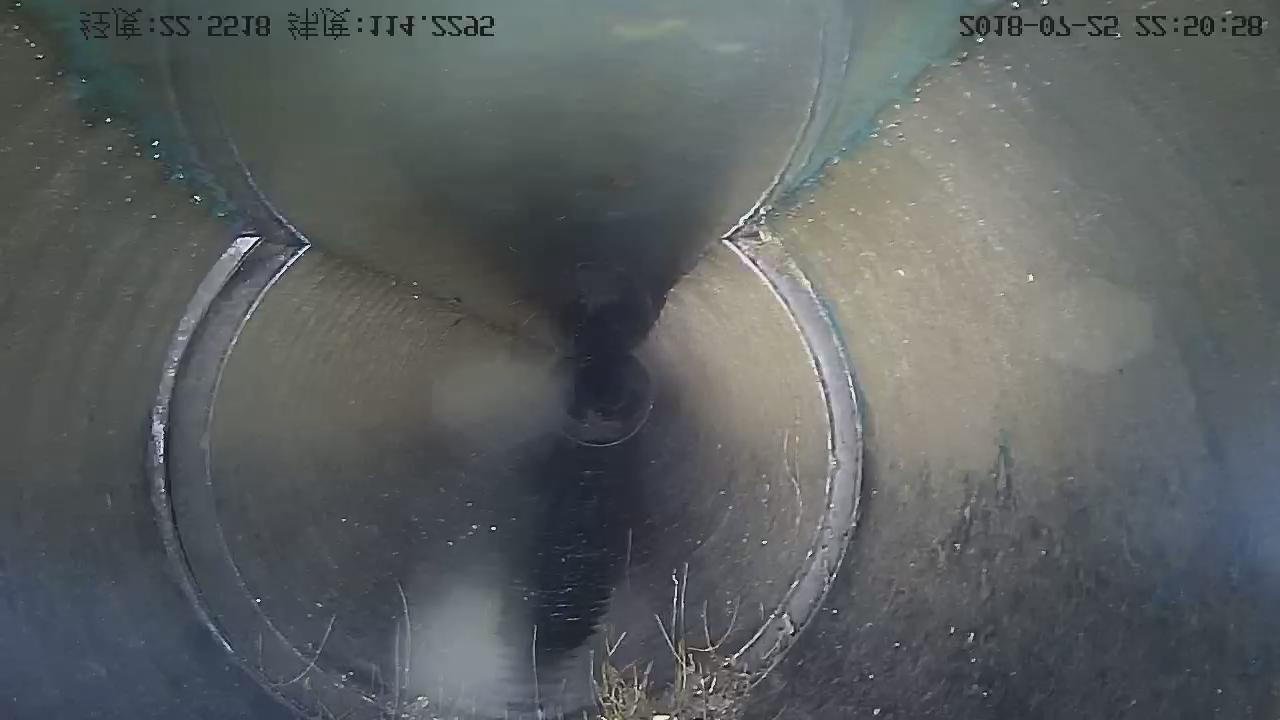CKTJ: (152, 236, 386, 720), (721, 224, 862, 684)
